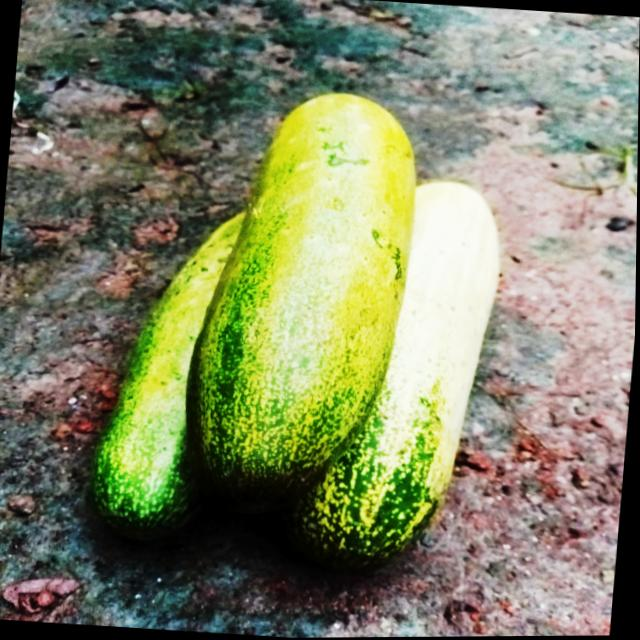Fresh-Cucumber: (180, 77, 429, 508), (299, 169, 508, 574), (87, 200, 254, 536)
